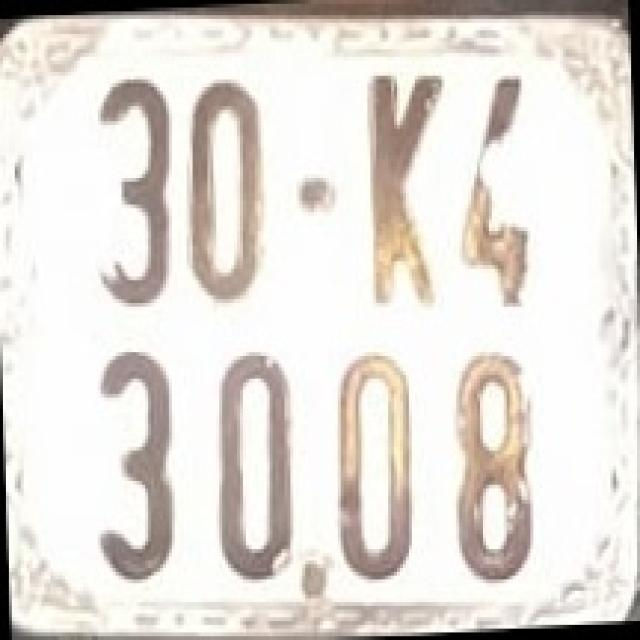0: (334, 345, 419, 583), (215, 346, 298, 582), (185, 74, 268, 305)
3: (94, 343, 180, 581), (92, 72, 175, 307)
4: (460, 66, 540, 316)
8: (450, 343, 540, 585)
K: (362, 63, 444, 316)
